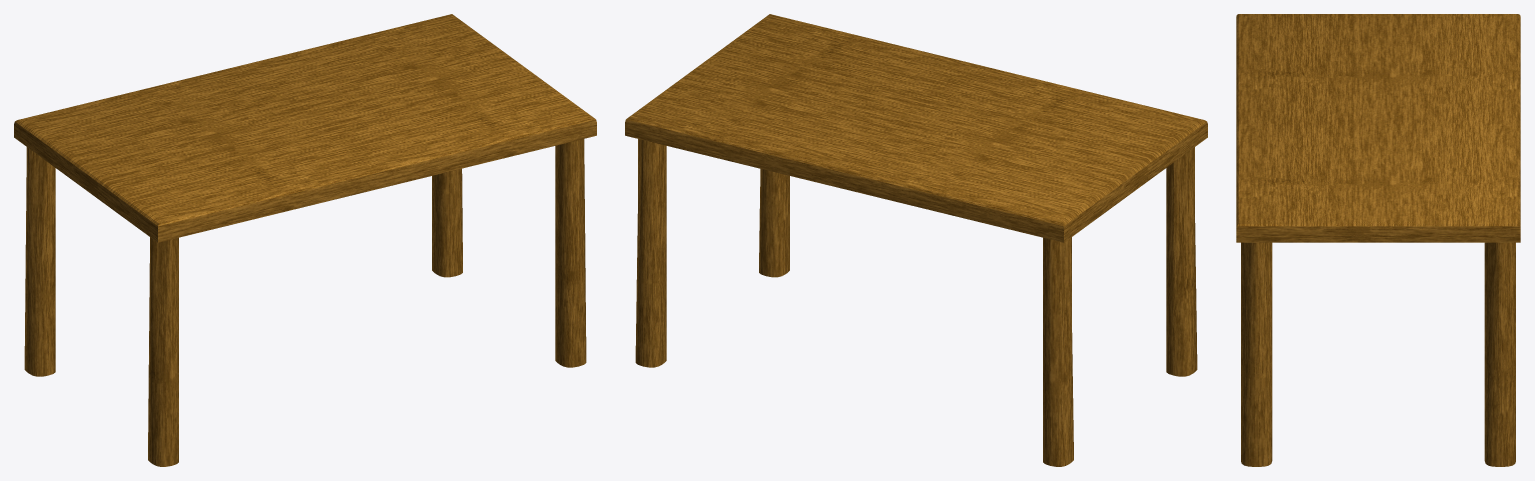
File: Table.FBX
3 views of the same model, side by side, from view 1: azimuth 30°, elevation 25°; view 2: azimuth 150°, elevation 25°; view 3: azimuth 270°, elevation 25° (orthographic).
Visible parts, largest first — view 1: Box001; view 2: Box001; view 3: Box001.
Boxes of the visible parts, x1,y1,x2,y2 form: Box001: (14,14,596,466); Box001: (625,14,1207,466); Box001: (1236,14,1520,466).
Bounding box in the file's own units: 54.48 × 29.4 × 30.92.
1 material, 1 textured.
